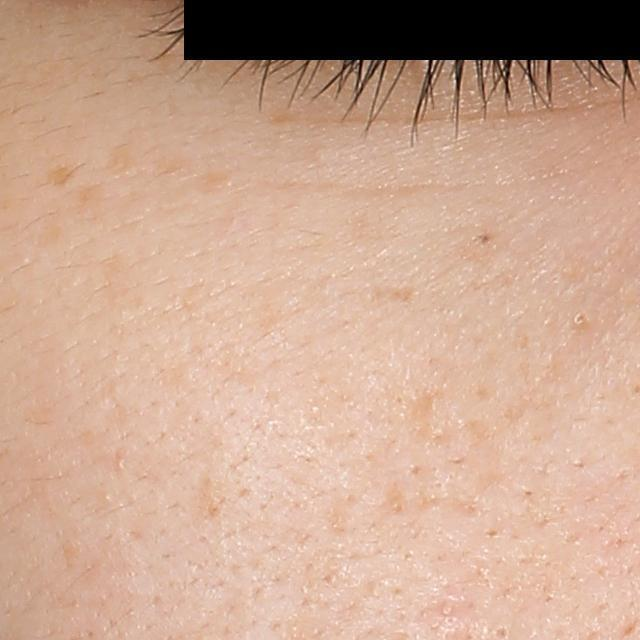comedo: (572, 309, 592, 331)
melasma: (96, 143, 145, 181), (195, 165, 240, 197), (75, 183, 109, 222), (40, 163, 85, 192)
